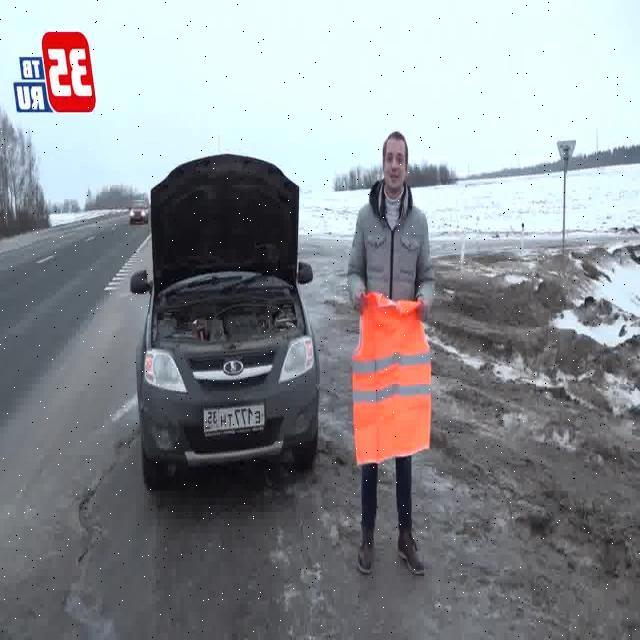Person: (340, 127, 445, 606)
Vest: (347, 189, 437, 462)
